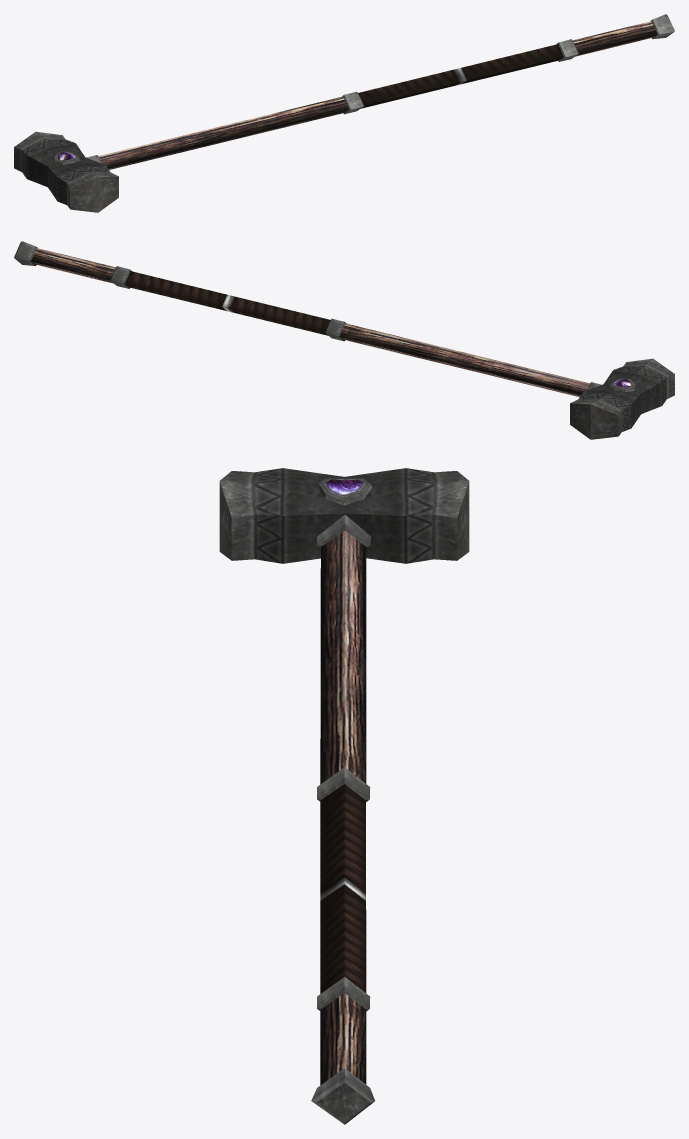
File: KM_2H_BLUNT_DEX_01.glb
3 views of the same model, one above another, from view 1: azimuth 30°, elevation 25°; view 2: azimuth 150°, elevation 25°; view 3: azimuth 270°, elevation 25° (orthographic). The views are drawn at different scales.
Visible parts, largest first — view 1: KM_2H_BLUNT_DEX_01; view 2: KM_2H_BLUNT_DEX_01; view 3: KM_2H_BLUNT_DEX_01.
Part boxes in pixels (box(x1,y1,x2,y2)): KM_2H_BLUNT_DEX_01: box(14, 14, 674, 212); KM_2H_BLUNT_DEX_01: box(14, 241, 674, 439); KM_2H_BLUNT_DEX_01: box(219, 468, 469, 1124).
Size of the model in its own units: 1.51 by 0.0839 by 0.2606.
Materials: 4 (4 with a texture image).
